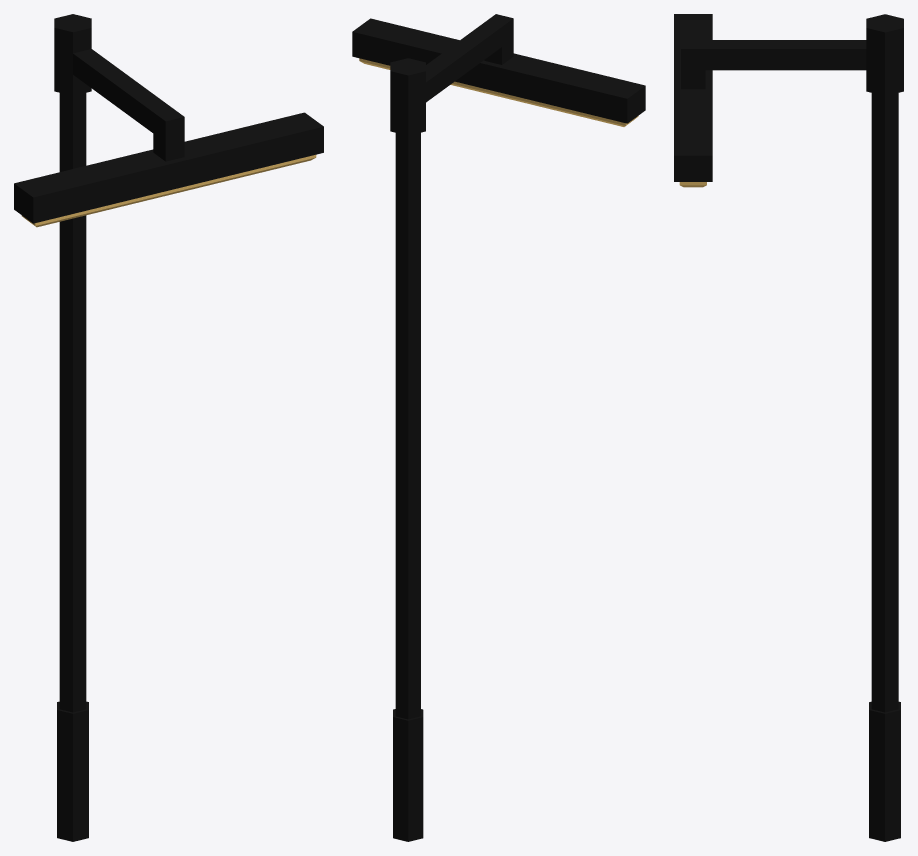
Rendered from P_J_LAMP .fbx.
The picture shows the model from 3 angles, left to right: view 1: azimuth 30°, elevation 25°; view 2: azimuth 150°, elevation 25°; view 3: azimuth 270°, elevation 25°; orthographic projection. The views are drawn at different scales.
Parts seen in each view (by area): view 1: J_Lamp_01; view 2: J_Lamp_01; view 3: J_Lamp_01.
Part boxes in pixels (bbox=[...]): J_Lamp_01: bbox=[14, 14, 323, 841]; J_Lamp_01: bbox=[352, 14, 645, 841]; J_Lamp_01: bbox=[674, 14, 903, 841].
Bounding box in the file's own units: 169 × 449 × 115.
